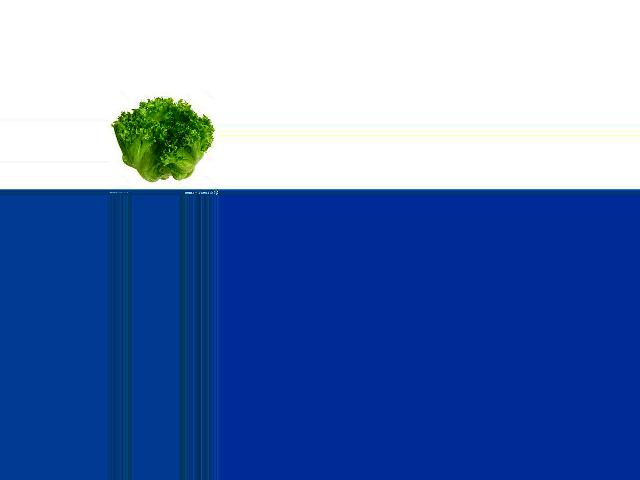lettuce: (115, 94, 214, 187)
